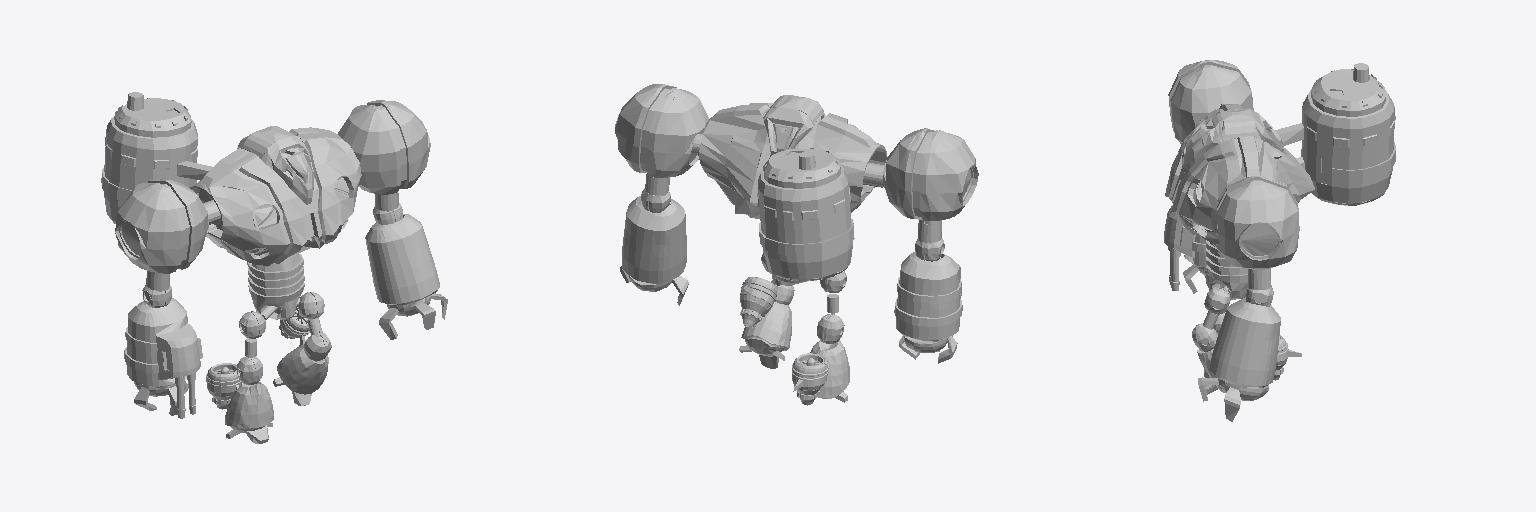
Rendered from Robot Texture 2.obj.
3 views of the same model, side by side, from view 1: azimuth 30°, elevation 25°; view 2: azimuth 150°, elevation 25°; view 3: azimuth 270°, elevation 25° (orthographic).
Parts seen in each view (by area): view 1: Torso, Torso AmmoHopper, RightShoulder, RightCannonFist RightElbow RightArm RightShoulder, LeftShoulder, LeftArm LeftShoulder LeftElbow LeftForeArm, Head1 Torso, Torso Abdomen, RightThigh RightHip RightFoot RIghtKnee, LeftKnee LeftThigh1 LeftHip LeftFoot, LeftArm LeftShoulder LeftElbow LeftForeArm LeftHand, RightThigh RightHip RightFootRocket RightFoot RIghtKnee (+5 smaller); view 2: Torso AmmoHopper, Torso, RightShoulder, LeftShoulder, RightCannonFist RightElbow RightArm RightShoulder, LeftArm LeftShoulder LeftElbow LeftForeArm, Head1 Torso, LeftKnee LeftThigh1 LeftHip LeftFoot, RightThigh RightHip RightFootRocket RightFoot RIghtKnee, RightThigh RightHip RightFoot RIghtKnee, LeftKnee LeftThigh1 LeftHip LeftFootRocket LeftFoot, RightThigh RightHip RIghtKnee (+1 smaller); view 3: Torso AmmoHopper, Torso, LeftShoulder, LeftArm LeftShoulder LeftElbow LeftForeArm, RightShoulder, Head1 Torso, RightCannonFist RightElbow RightArm RightShoulder, Torso Abdomen, LeftArm LeftShoulder LeftElbow LeftForeArm LeftHand, LeftHip, LeftKnee LeftThigh1 LeftHip.
Boxes of the visible parts, box(x1,y1,x2,y2) form: Torso: box(177, 127, 361, 269); Torso AmmoHopper: box(101, 92, 197, 223); RightShoulder: box(115, 179, 208, 273); RightCannonFist RightElbow RightArm RightShoulder: box(124, 298, 202, 418); LeftShoulder: box(338, 100, 430, 194); LeftArm LeftShoulder LeftElbow LeftForeArm: box(365, 214, 439, 305); Head1 Torso: box(237, 126, 314, 204); Torso Abdomen: box(247, 253, 304, 319); RightThigh RightHip RightFoot RIghtKnee: box(225, 382, 273, 443); LeftKnee LeftThigh1 LeftHip LeftFoot: box(273, 336, 328, 405); LeftArm LeftShoulder LeftElbow LeftForeArm LeftHand: box(379, 293, 447, 339); RightThigh RightHip RightFootRocket RightFoot RIghtKnee: box(206, 363, 241, 409); Torso AmmoHopper: box(757, 148, 854, 280); Torso: box(691, 103, 886, 218); RightShoulder: box(883, 128, 978, 220); LeftShoulder: box(615, 84, 708, 177); RightCannonFist RightElbow RightArm RightShoulder: box(894, 251, 962, 363); LeftArm LeftShoulder LeftElbow LeftForeArm: box(622, 196, 686, 284); Head1 Torso: box(763, 95, 824, 155); LeftKnee LeftThigh1 LeftHip LeftFoot: box(739, 302, 791, 368); RightThigh RightHip RightFootRocket RightFoot RIghtKnee: box(792, 353, 828, 405); RightThigh RightHip RightFoot RIghtKnee: box(810, 340, 849, 402); LeftKnee LeftThigh1 LeftHip LeftFootRocket LeftFoot: box(740, 277, 776, 327); RightThigh RightHip RIghtKnee: box(817, 313, 844, 343); Torso AmmoHopper: box(1301, 63, 1395, 205); Torso: box(1165, 104, 1314, 249); LeftShoulder: box(1217, 176, 1299, 269); LeftArm LeftShoulder LeftElbow LeftForeArm: box(1209, 297, 1280, 387); RightShoulder: box(1168, 60, 1253, 144); Head1 Torso: box(1182, 108, 1283, 173); RightCannonFist RightElbow RightArm RightShoulder: box(1164, 205, 1206, 293); Torso Abdomen: box(1206, 240, 1247, 299); LeftArm LeftShoulder LeftElbow LeftForeArm LeftHand: box(1198, 377, 1268, 421); LeftHip: box(1204, 287, 1230, 314); LeftKnee LeftThigh1 LeftHip: box(1192, 323, 1217, 352).
Size of the model in its own units: 5.57 by 4.79 by 3.34.